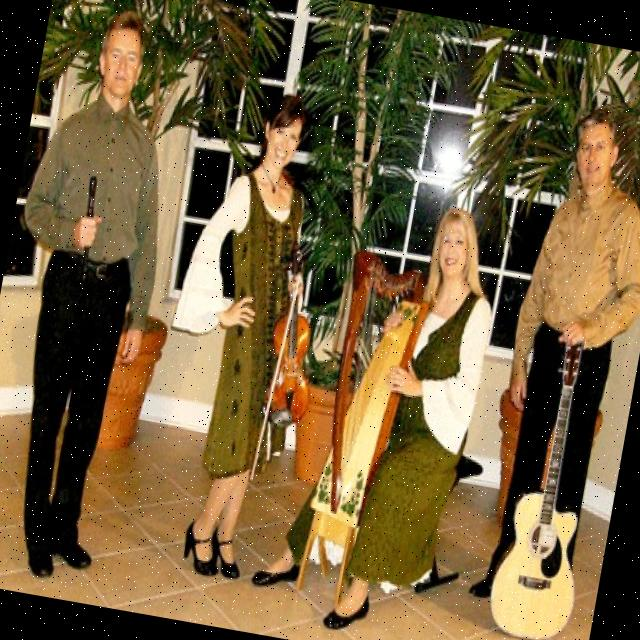guitar: (480, 315, 623, 640)
harp: (292, 226, 442, 624)
violin: (256, 241, 340, 434)
